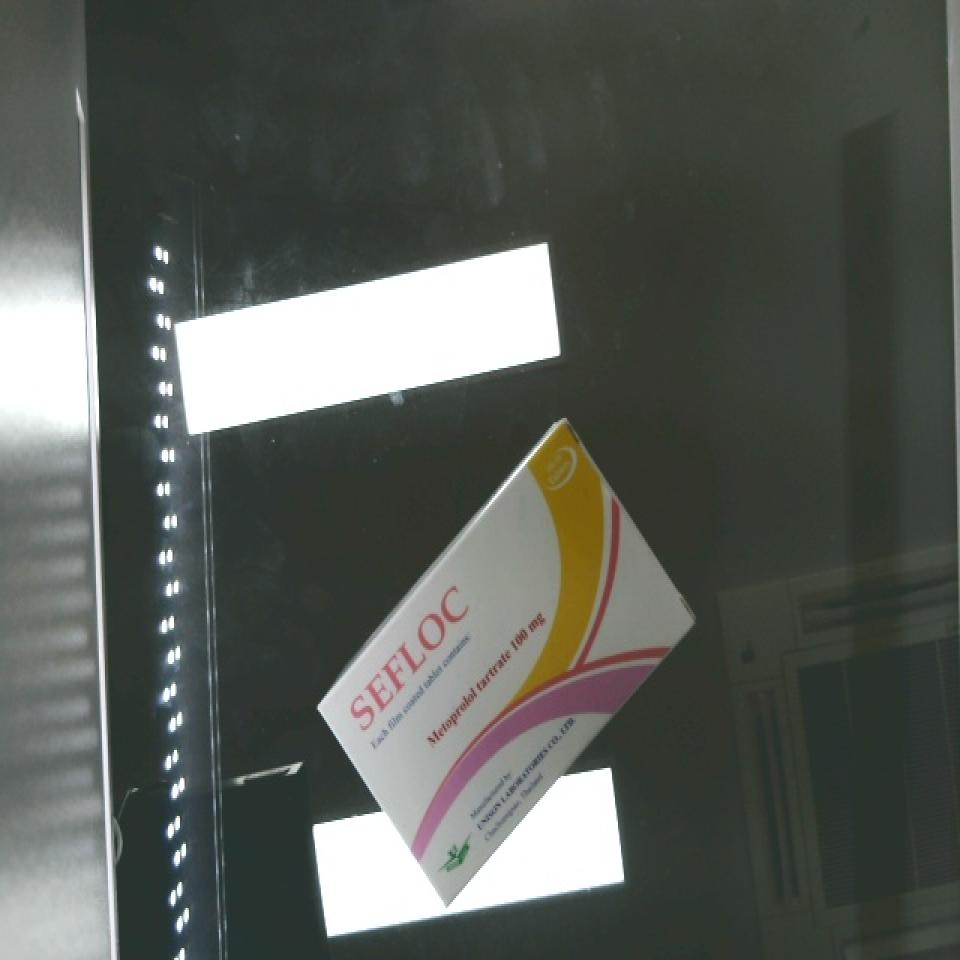medicine_box: (266, 412, 742, 908)
medicine_label_obb: (319, 560, 497, 752)
